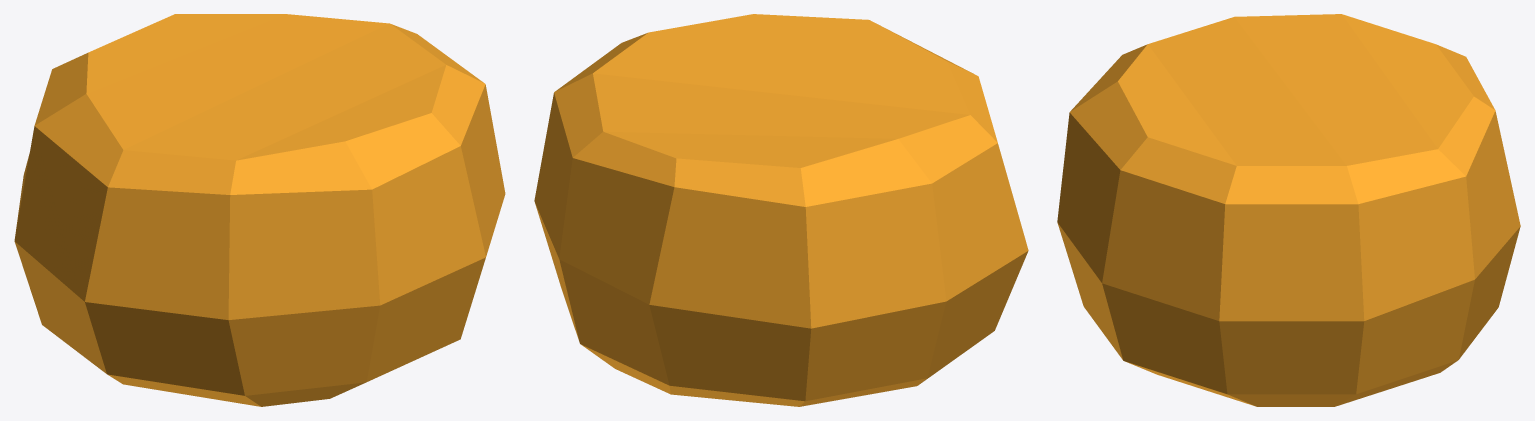
File: SM_Parmesan.fbx
3 views of the same model, side by side, from view 1: azimuth 30°, elevation 25°; view 2: azimuth 150°, elevation 25°; view 3: azimuth 270°, elevation 25° (orthographic). The views are drawn at different scales.
Parts seen in each view (by area): view 1: parmesan; view 2: parmesan; view 3: parmesan.
Part boxes in pixels (bbox=[...]): parmesan: bbox=[14, 14, 505, 406]; parmesan: bbox=[534, 14, 1028, 406]; parmesan: bbox=[1057, 14, 1520, 406].
Size of the model in its own units: 0.4546 by 0.261 by 0.4423.
